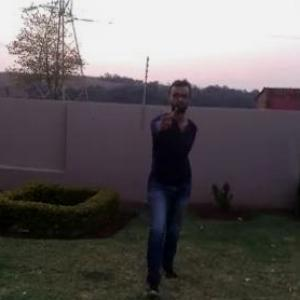takeoff-hand: (151, 102, 178, 138)
